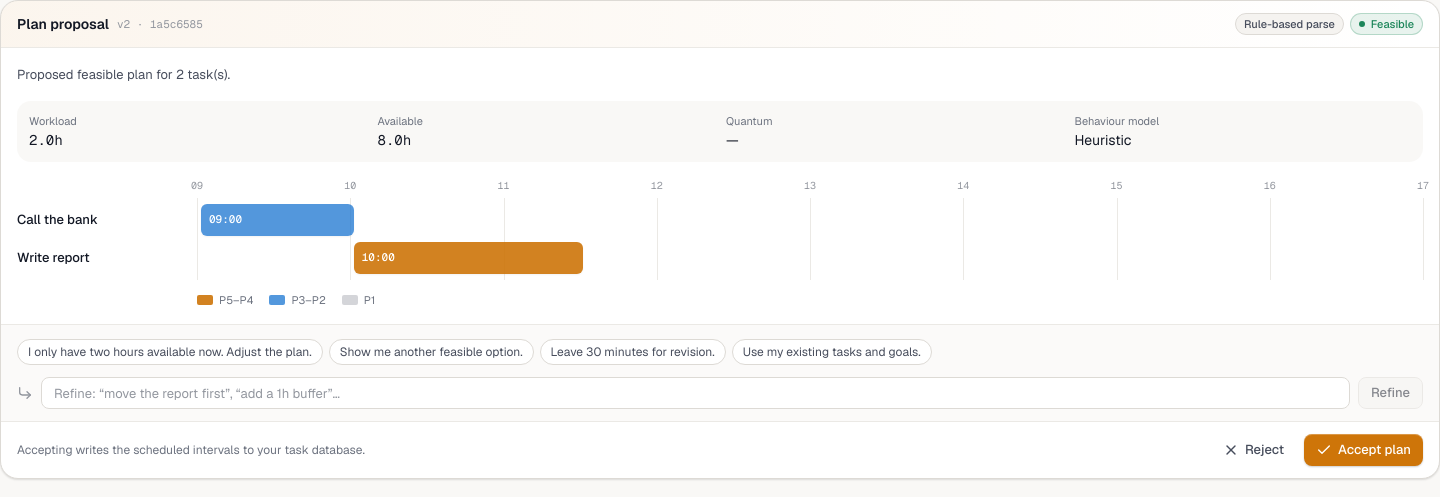
Test: ProposalCard › accepts the active proposal with its id and version
Check: the text "Rule-based parse" is shown, box [1244,16,1335,32]
Click the button "Accept plan": x=1364, y=450 [1304,434,1423,466]
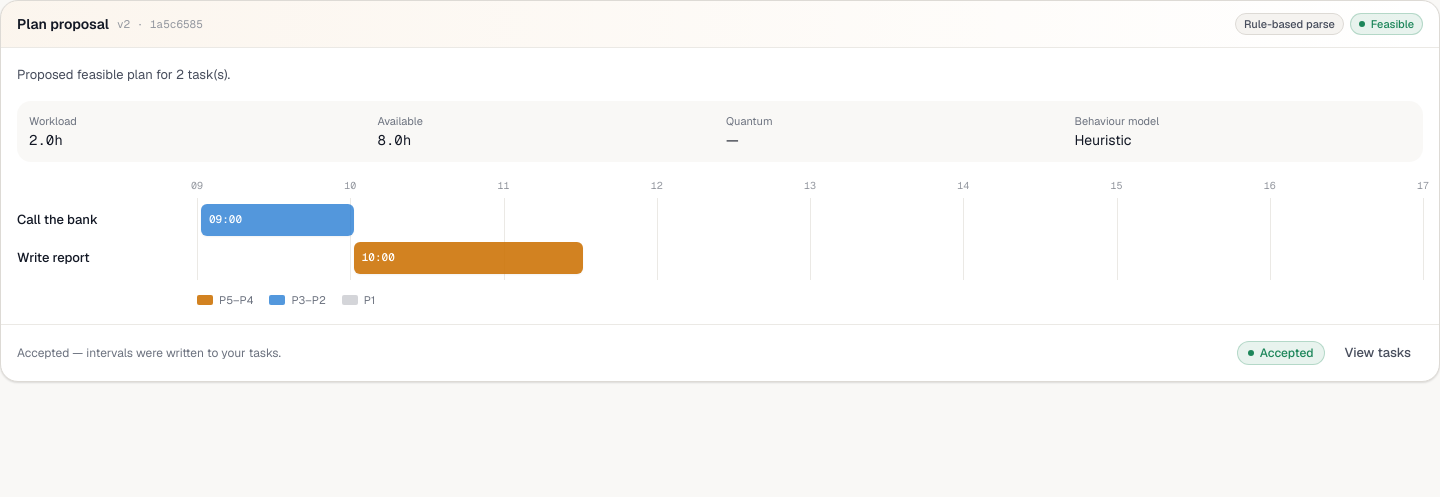
Check: the text "Accepted — intervals were written to your tasks." is shown, box [17,345,281,361]
